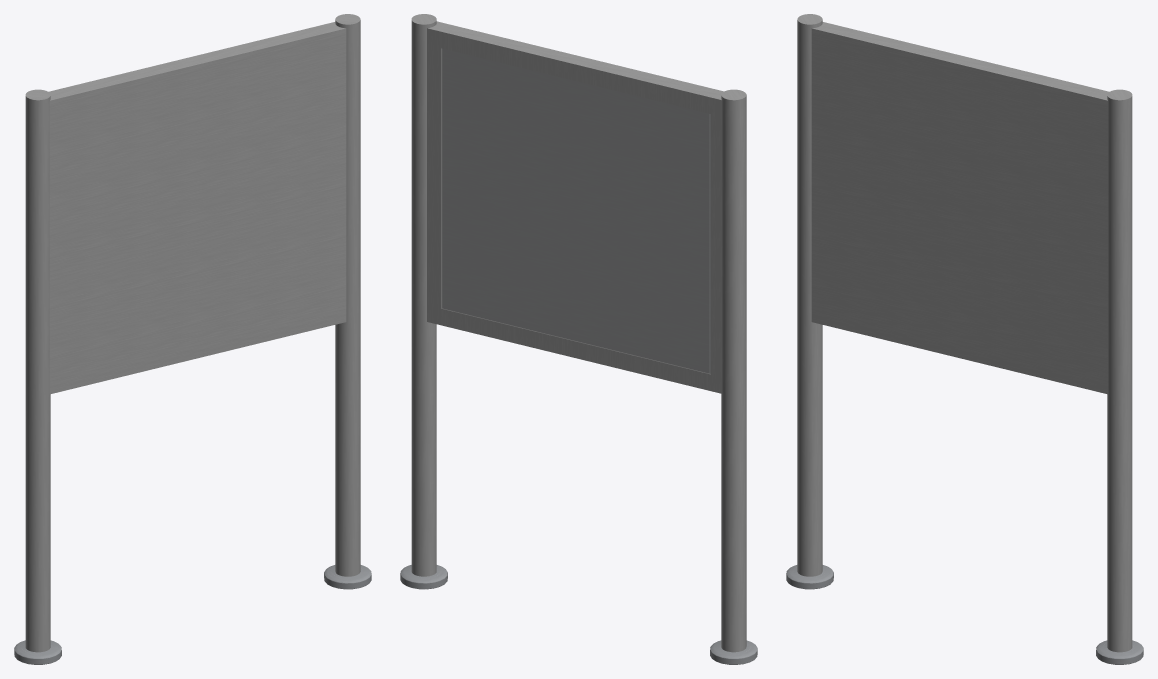
Rendered from busNumbers.fbx.
The picture shows the model from 3 angles, left to right: view 1: azimuth 30°, elevation 25°; view 2: azimuth 150°, elevation 25°; view 3: azimuth 330°, elevation 25°; orthographic projection.
Visible parts, largest first — view 1: polySurface1, pole2, pole1, bottom1, bottom2; view 2: transparent, pCube60, polySurface1, pole2, pole1, bottom1, bottom2; view 3: polySurface1, pole1, pole2, bottom2, bottom1.
Part boxes in pixels (x1=…): polySurface1: x1=48, y1=22, x2=346, y2=394; pole2: x1=25, y1=89, x2=50, y2=652; pole1: x1=335, y1=14, x2=360, y2=576; bottom1: x1=324, y1=565, x2=371, y2=589; bottom2: x1=14, y1=640, x2=61, y2=664; transparent: x1=441, y1=48, x2=710, y2=373; pCube60: x1=442, y1=49, x2=710, y2=373; polySurface1: x1=427, y1=21, x2=723, y2=393; pole2: x1=721, y1=89, x2=746, y2=652; pole1: x1=411, y1=14, x2=436, y2=576; bottom1: x1=400, y1=565, x2=447, y2=589; bottom2: x1=710, y1=640, x2=757, y2=664; polySurface1: x1=811, y1=22, x2=1109, y2=394; pole1: x1=1107, y1=89, x2=1132, y2=652; pole2: x1=797, y1=14, x2=822, y2=576; bottom2: x1=786, y1=565, x2=833, y2=589; bottom1: x1=1096, y1=640, x2=1143, y2=664.
Bounding box in the file's own units: 1.35 × 2.05 × 0.159.
